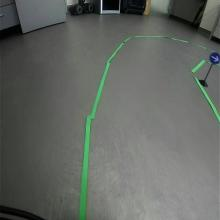right: (209, 52, 220, 65)
